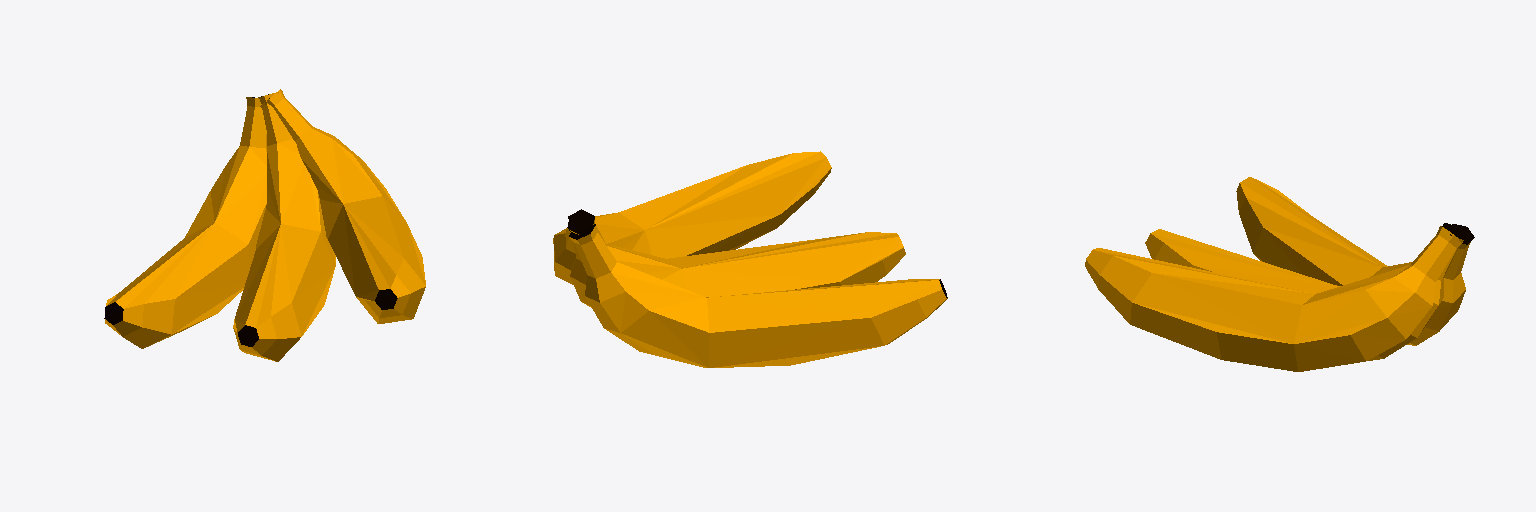
File: banana.obj
3 views of the same model, side by side, from view 1: azimuth 30°, elevation 25°; view 2: azimuth 150°, elevation 25°; view 3: azimuth 270°, elevation 25° (orthographic).
Visible parts, largest first — view 1: Icosphere.002, Icosphere.003, Icosphere.004; view 2: Icosphere.002, Icosphere.004, Icosphere.003; view 3: Icosphere.004, Icosphere.002, Icosphere.003.
Boxes of the visible parts, <box> form: Icosphere.002: <box>104,97,266,348</box>; Icosphere.003: <box>233,91,335,361</box>; Icosphere.004: <box>260,89,425,323</box>; Icosphere.002: <box>569,224,947,367</box>; Icosphere.004: <box>553,151,831,284</box>; Icosphere.003: <box>567,211,905,307</box>; Icosphere.004: <box>1085,226,1462,371</box>; Icosphere.002: <box>1236,177,1474,345</box>; Icosphere.003: <box>1145,223,1466,360</box>.
Size of the model in its own units: 2.21 by 1.03 by 2.26.